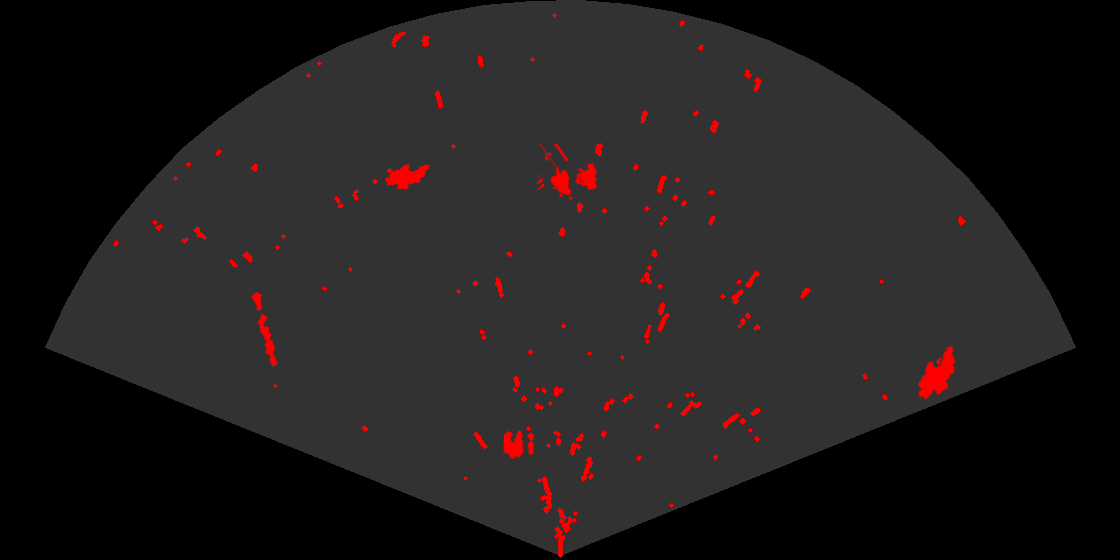AUV: (916, 344, 957, 401), (384, 162, 431, 191)
ball: (502, 429, 535, 460)
cage: (537, 144, 599, 202)
chain: (250, 290, 279, 390)
